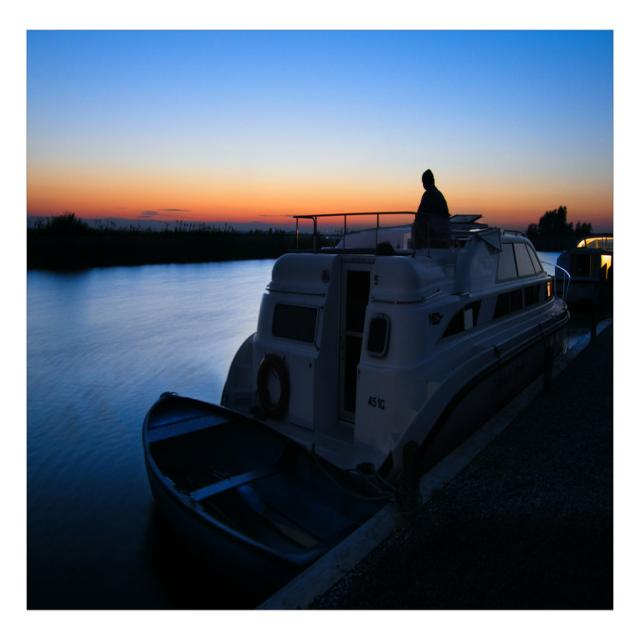Boat: (152, 110, 640, 581)
